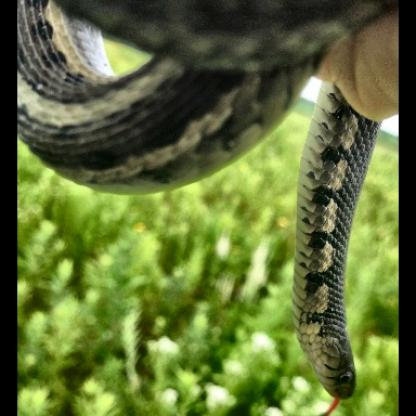Snake: (285, 116, 372, 406)
